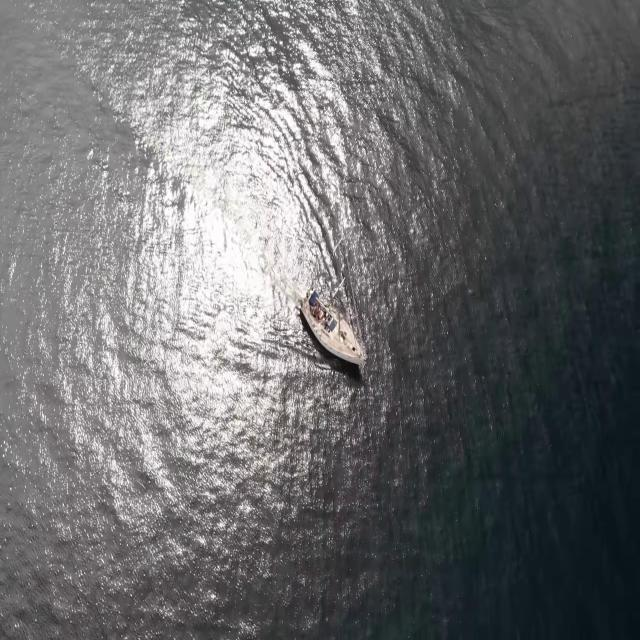sailboat: (299, 272, 366, 366)
